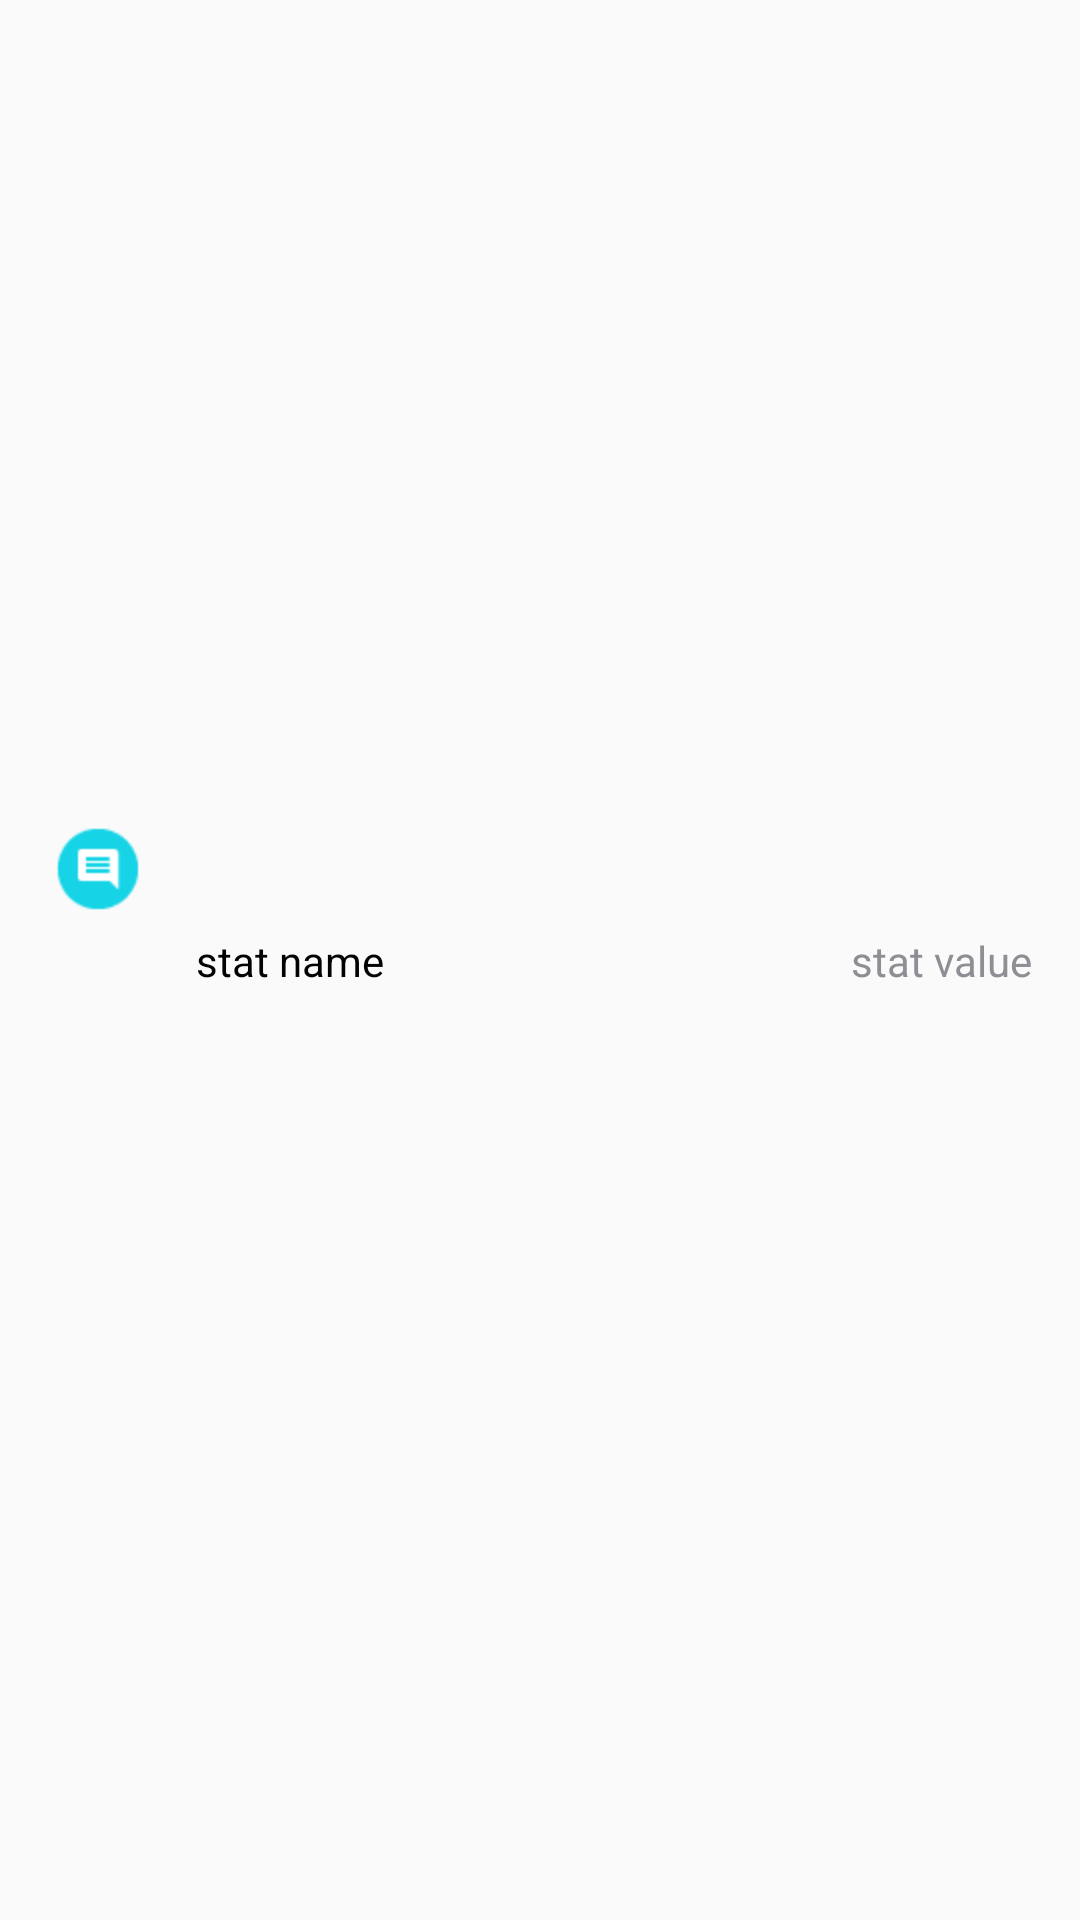

Where to tap for icons on this 1080px×1920px app screen, as (x=x, y=y):
comments: (x=98, y=869)
